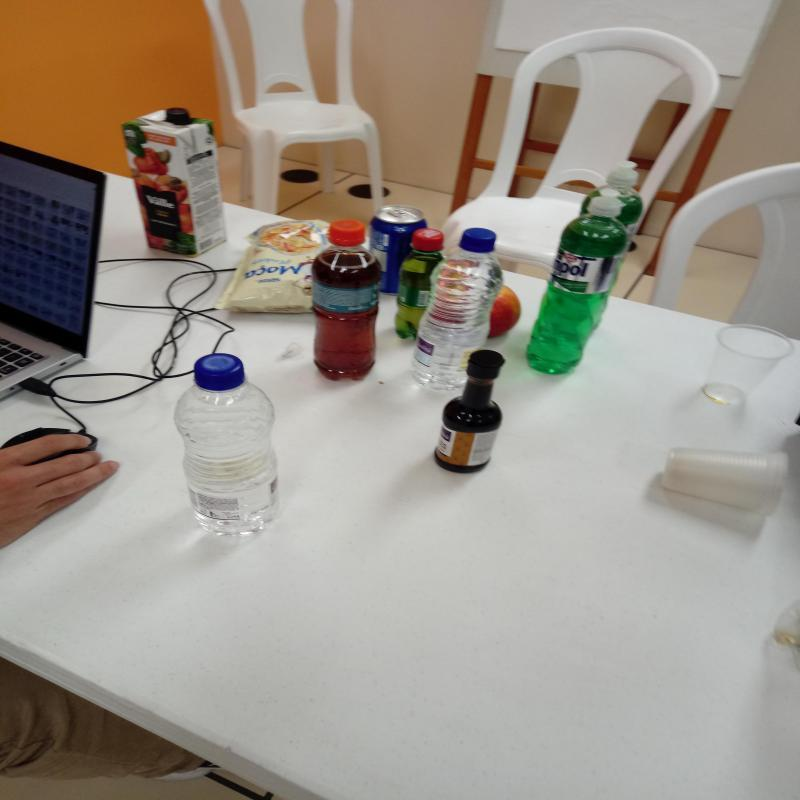Apple: (489, 286, 522, 340)
Cleaner: (522, 186, 631, 378), (576, 163, 650, 226)
CornFlakes: (220, 216, 328, 321)
EnglishSauce: (437, 350, 503, 471)
Guarana: (395, 227, 446, 340)
IceTea: (314, 218, 382, 382)
Tonic: (367, 205, 426, 294)
Water: (172, 355, 282, 538), (412, 229, 507, 392)
